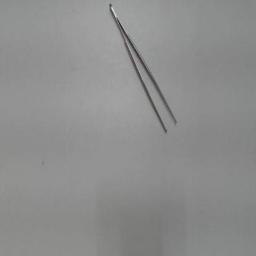Gillies Toothed Dissector: (108, 2, 184, 138)
